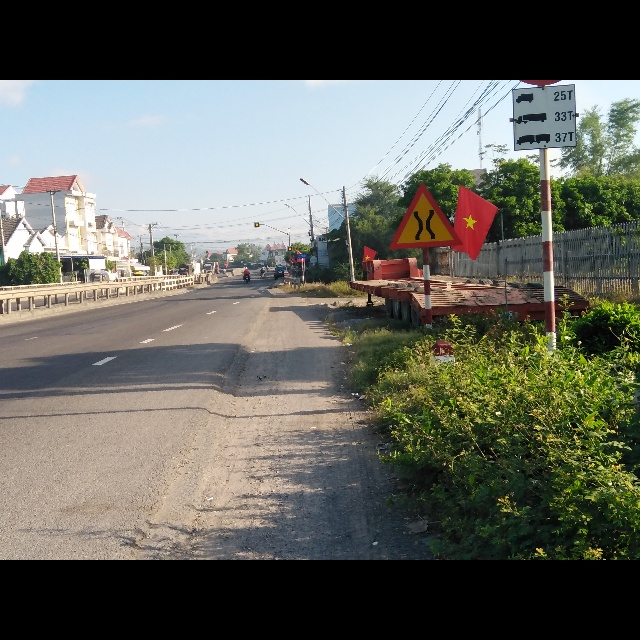Cầu hẹp: (388, 185, 460, 253)
